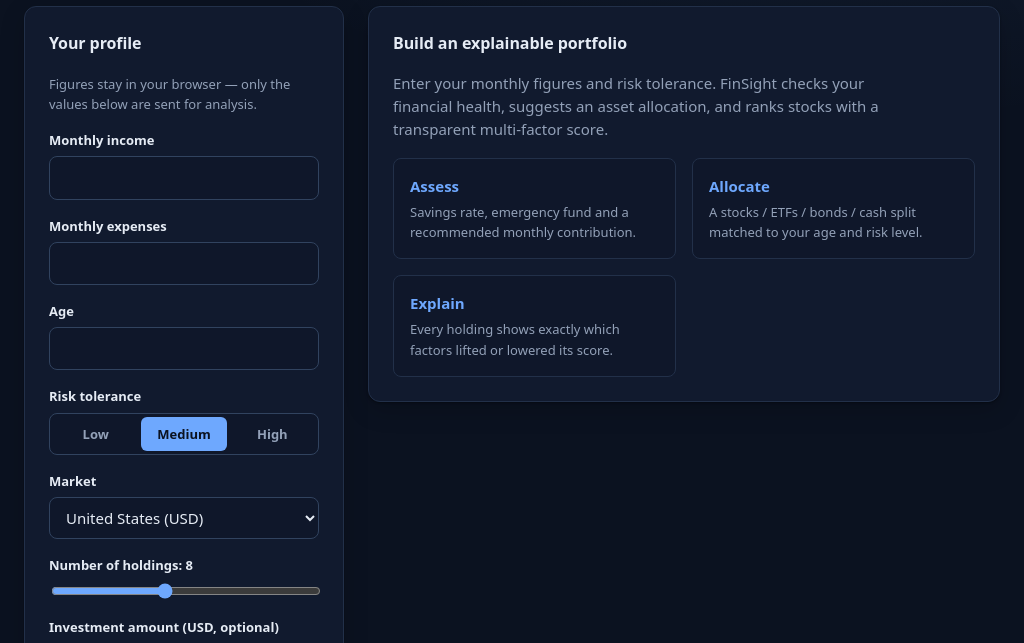
App › shows server validation errors next to the fields
Step 1. Type "5000" into the number field labelled "Monthly income" → (184, 178), box [49, 156, 319, 200]
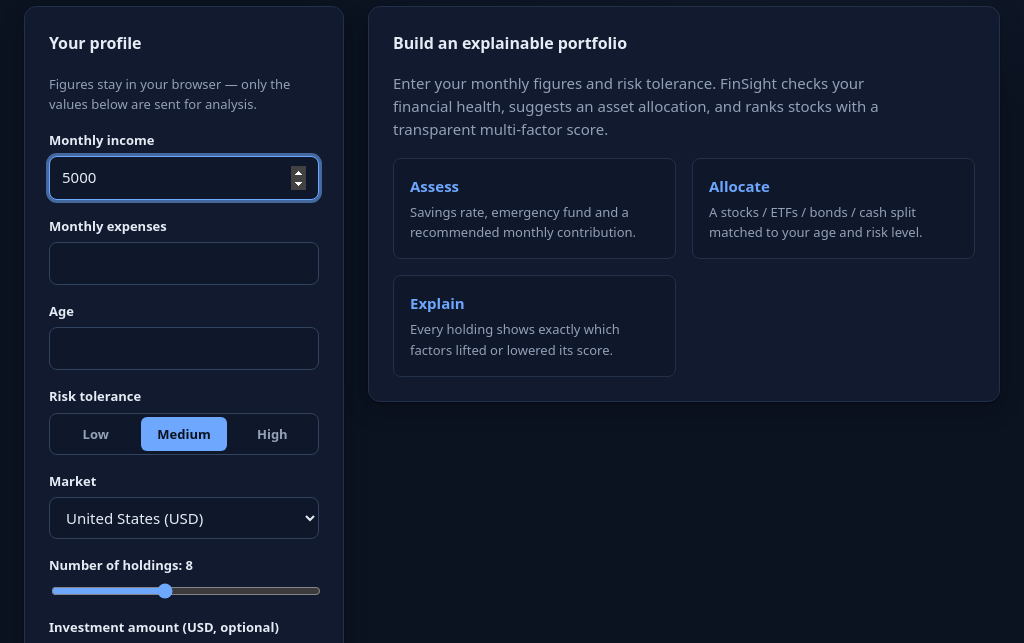
Step 2. Type "3000" into the number field labelled "Monthly expenses" → (184, 263), box [49, 242, 319, 285]
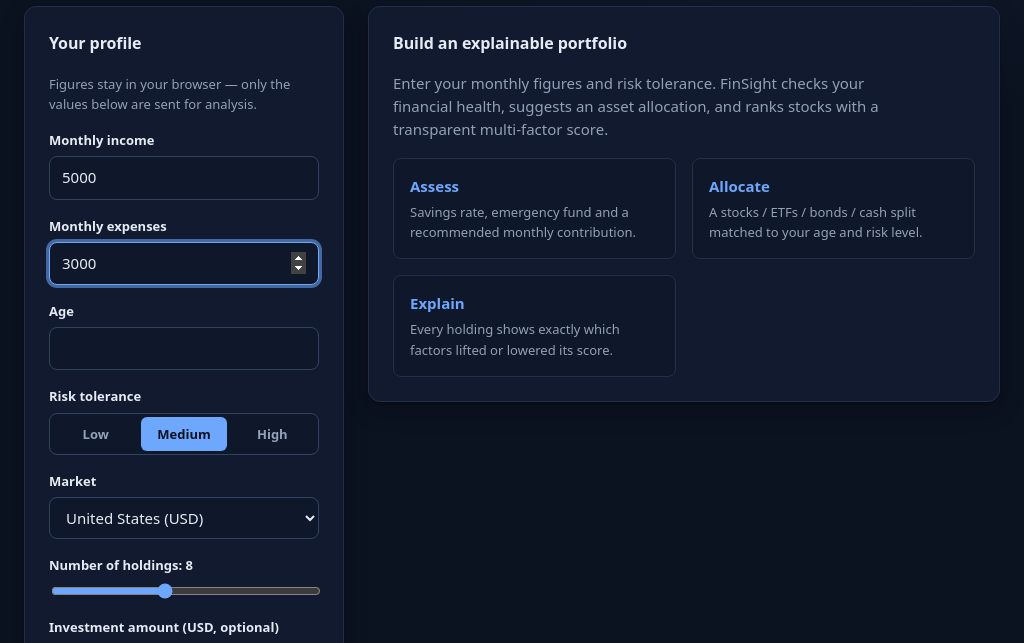
Step 3. Type "30" into the number field labelled "Age" → (184, 349), box [49, 327, 319, 370]
(page scrolled)
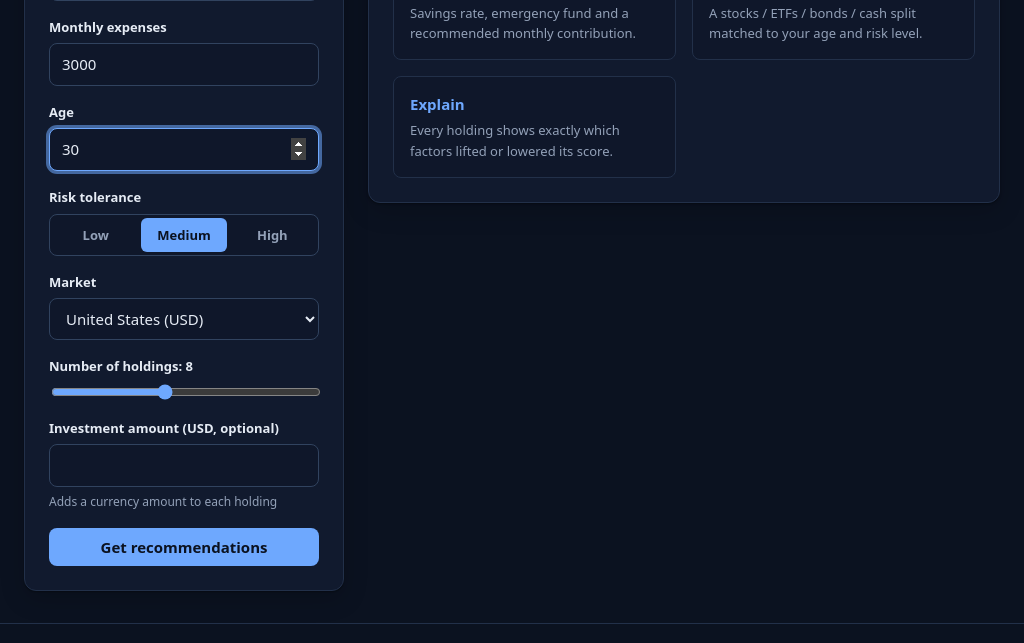
Step 4. Click the button "Get recommendations" → (184, 547), box [49, 528, 319, 566]
(page scrolled)
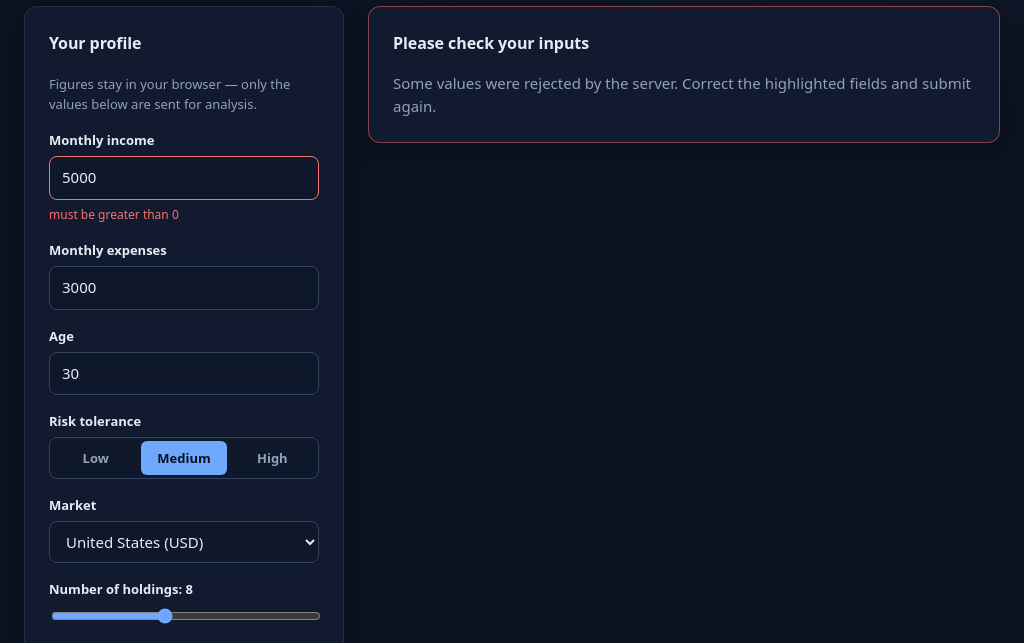
Check: the heading "Please check your inputs" is shown, box [393, 31, 589, 56]
